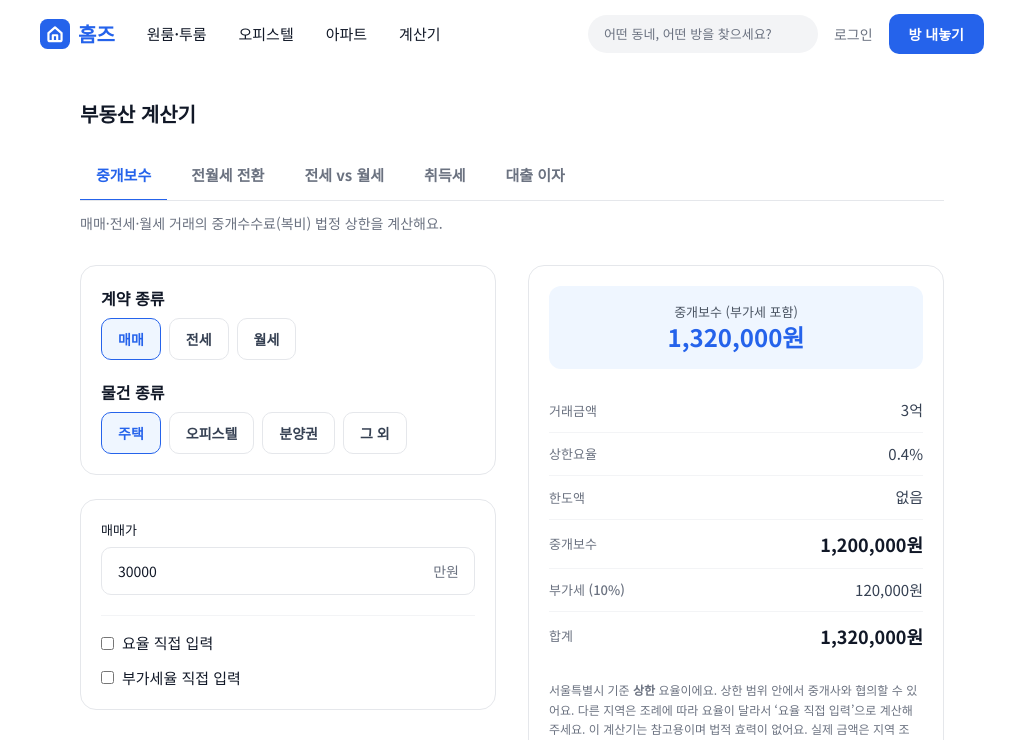
Test: brokerage fee tab › locks the deal type to sale for a presale right and adds the premium
Click the radio button labelled "분양권".
click(299, 432)  # box [262,412,335,454]
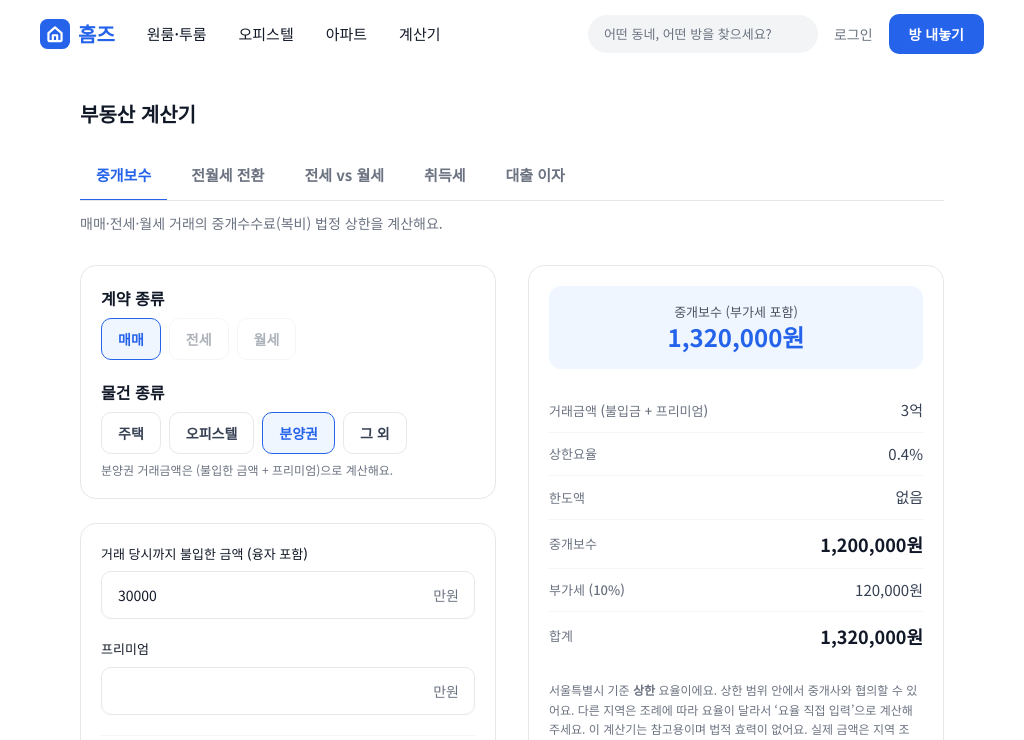
Expected: the radio button labelled "전세" is disabled, [169,318,229,360]
Type "5000" into the number field labelled "프리미엄".
click(288, 690); type("5000")  # box [101,666,475,714]
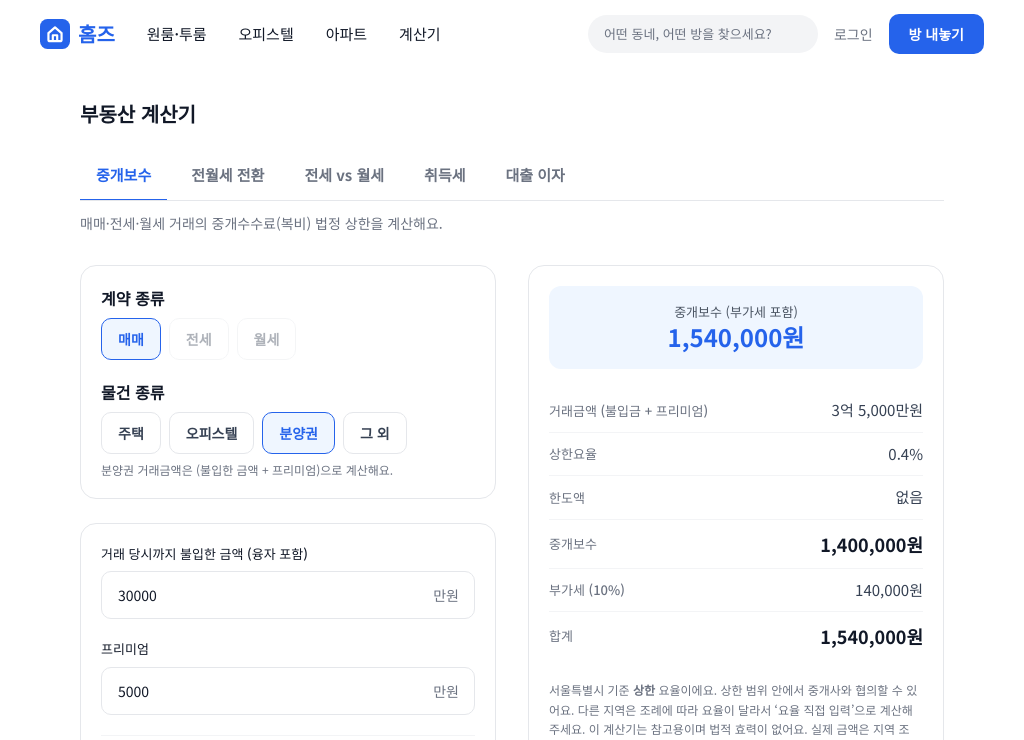
Replace the text in the number field labelled "거래 당시까지 불입한 금액 (융자 포함)" with "15000" at (288,595), box [101,571,475,619]
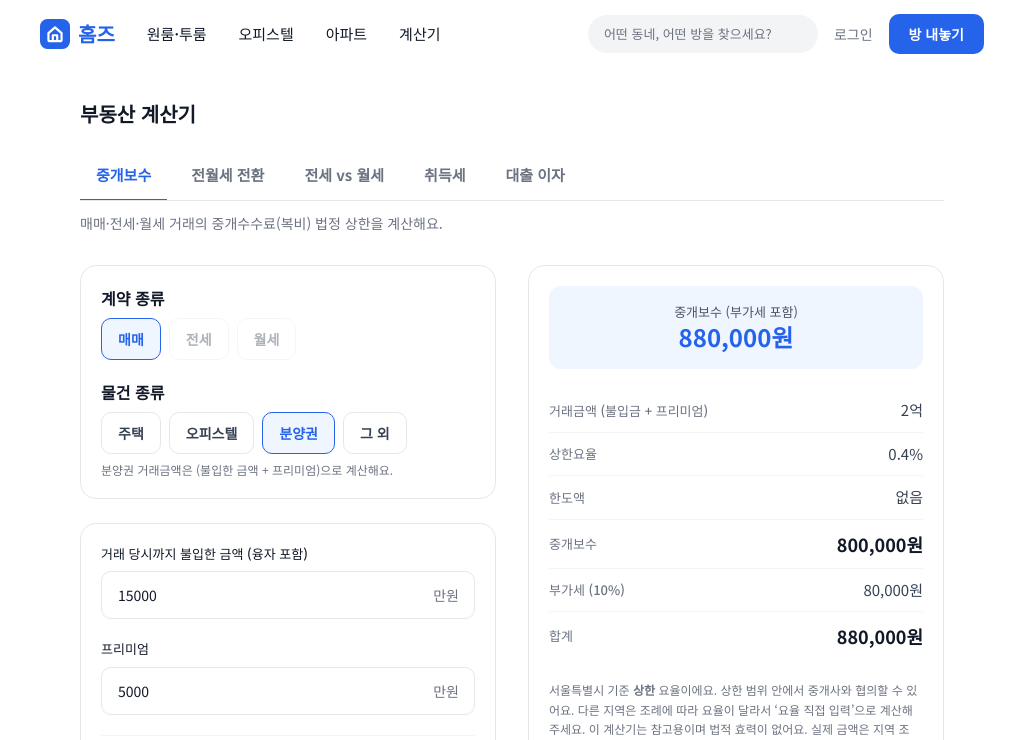
Expected: the text "800,000원" is shown, [837,530,923,558]
